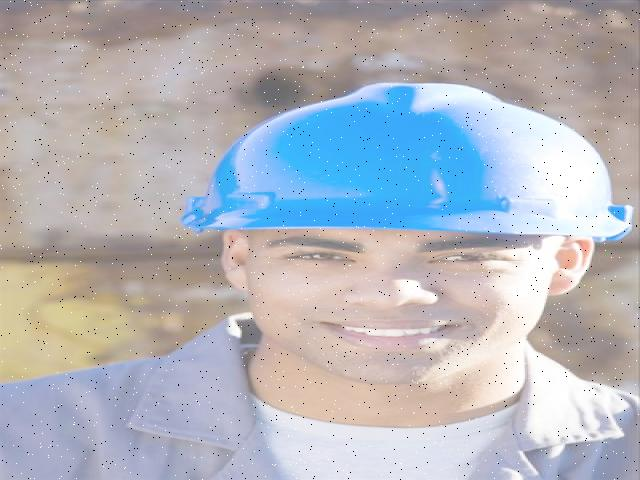Helmet: (170, 73, 640, 252)
